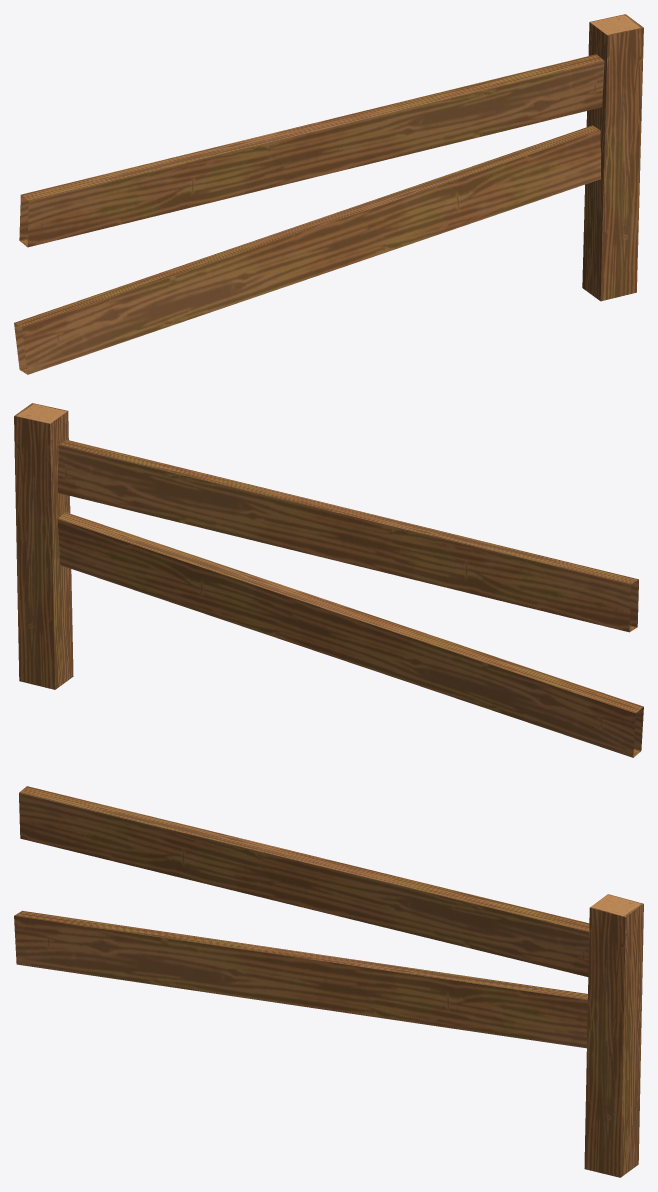
The model's file is Prop_WoodenFence_Extension1.glb.
3 views of the same model, one above another, from view 1: azimuth 30°, elevation 25°; view 2: azimuth 150°, elevation 25°; view 3: azimuth 330°, elevation 25° (orthographic).
Parts seen in each view (by area): view 1: Prop_WoodenFence_Extension1; view 2: Prop_WoodenFence_Extension1; view 3: Prop_WoodenFence_Extension1.
Boxes of the visible parts, x1=… form: Prop_WoodenFence_Extension1: x1=14, y1=14, x2=643, y2=374; Prop_WoodenFence_Extension1: x1=14, y1=403, x2=643, y2=757; Prop_WoodenFence_Extension1: x1=14, y1=786, x2=643, y2=1177.
Size of the model in its own units: 2.05 by 0.8381 by 0.1103.
Materials: 1 (1 with a texture image).
